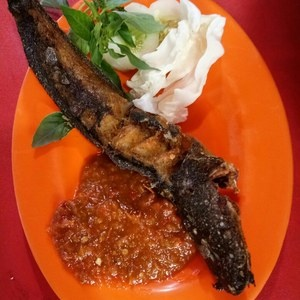pecel_lele: (128, 119, 259, 292)
